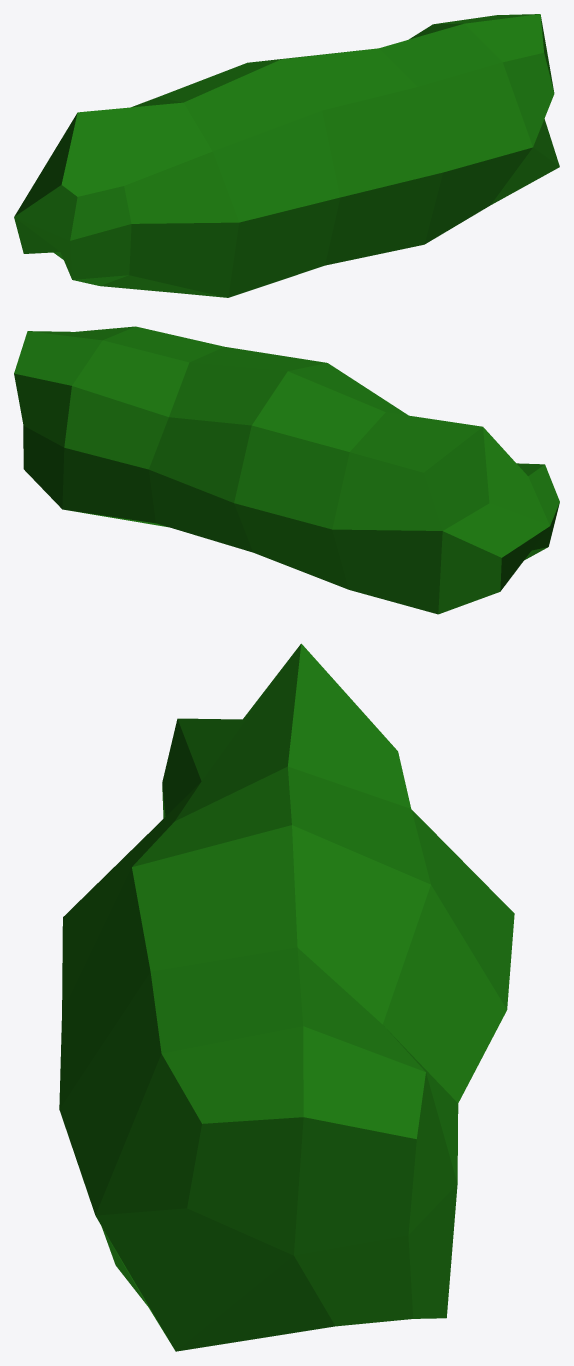
The model's file is bush2.fbx.
3 views of the same model, one above another, from view 1: azimuth 30°, elevation 25°; view 2: azimuth 150°, elevation 25°; view 3: azimuth 270°, elevation 25° (orthographic). The views are drawn at different scales.
Visible parts, largest first — view 1: Procedural Low Poly Rock; view 2: Procedural Low Poly Rock; view 3: Procedural Low Poly Rock.
Part boxes in pixels (<box>): Procedural Low Poly Rock: <box>14,14,559,297</box>; Procedural Low Poly Rock: <box>14,326,559,614</box>; Procedural Low Poly Rock: <box>59,643,514,1351</box>.
Size of the model in its own units: 199 by 74.88 by 75.67.
